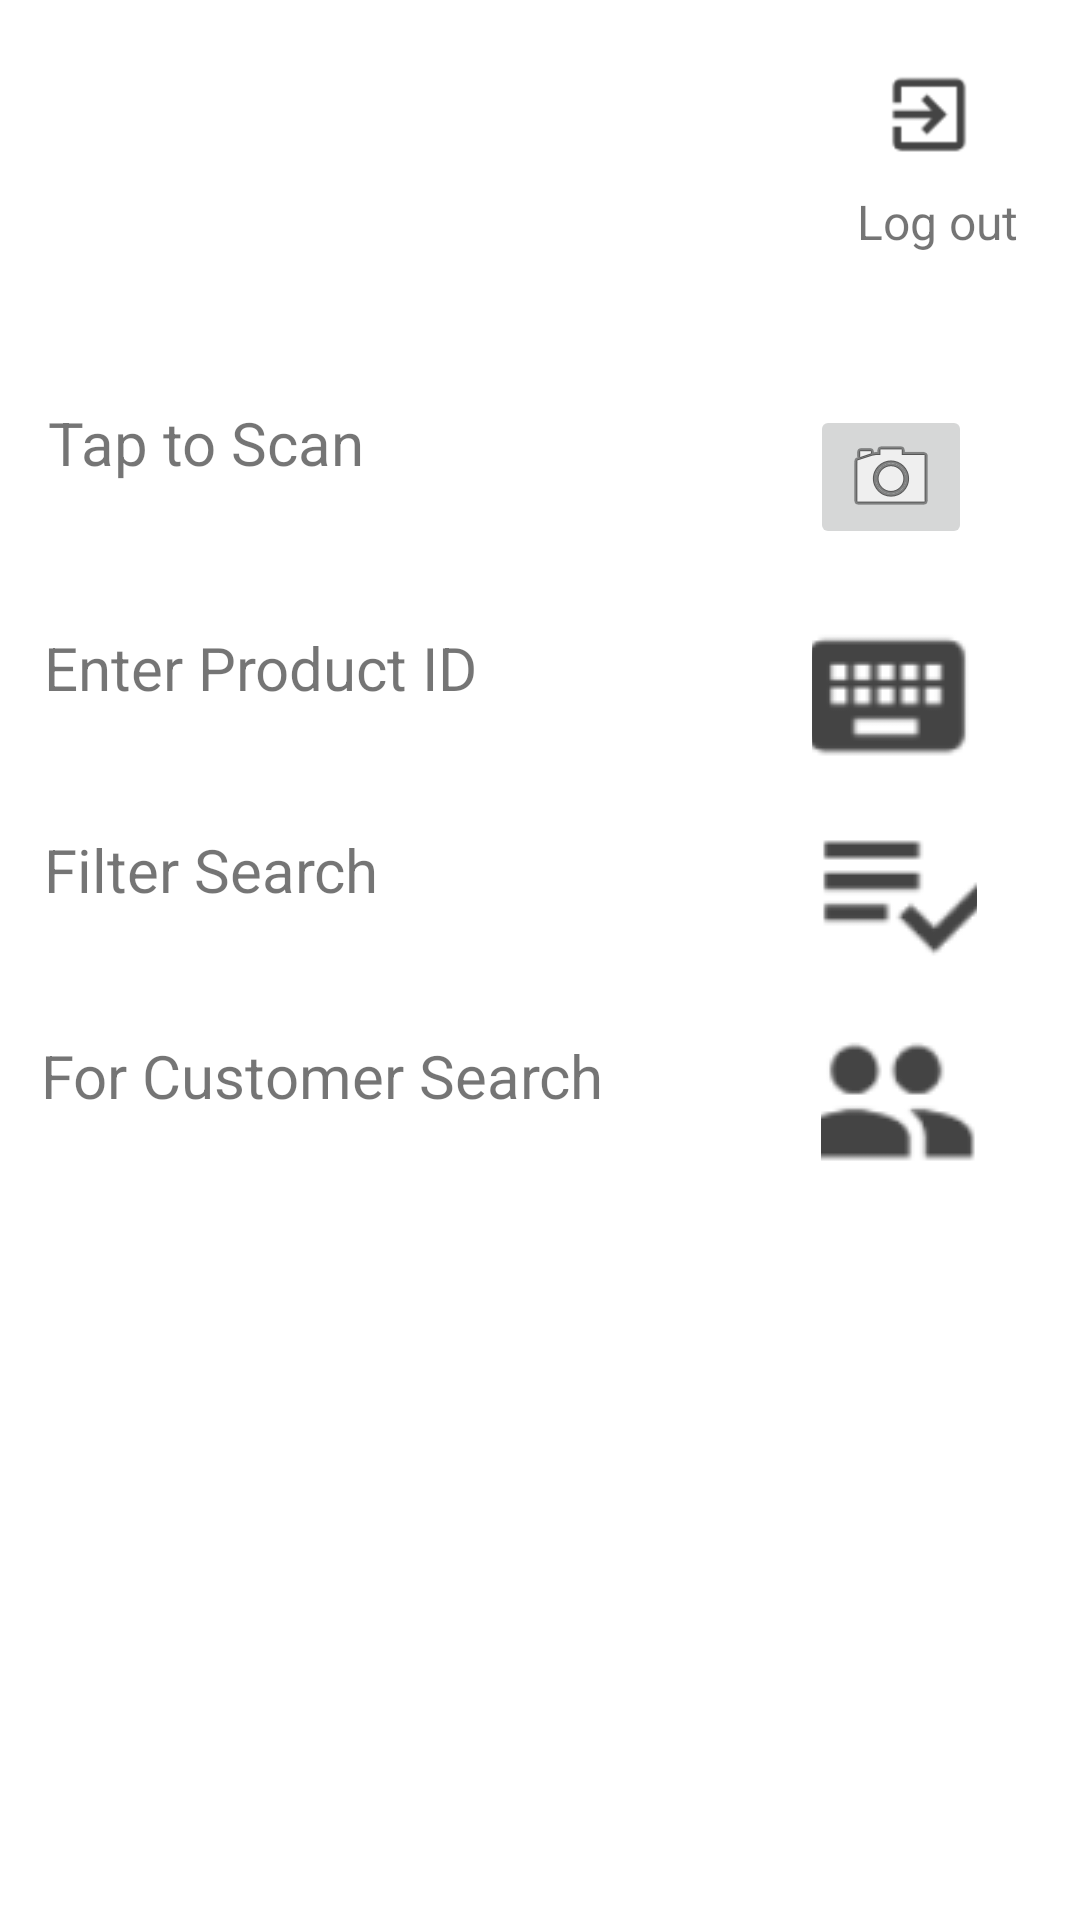

Screen size 1080w x 1920h. Icon name, then its center in pixels as (x=x, y=y):
image of a keyboard icon: (x=889, y=696)
image of camera in box: (x=891, y=477)
image of checkboxes: (x=900, y=896)
image of two peoples profiles: (x=898, y=1102)
